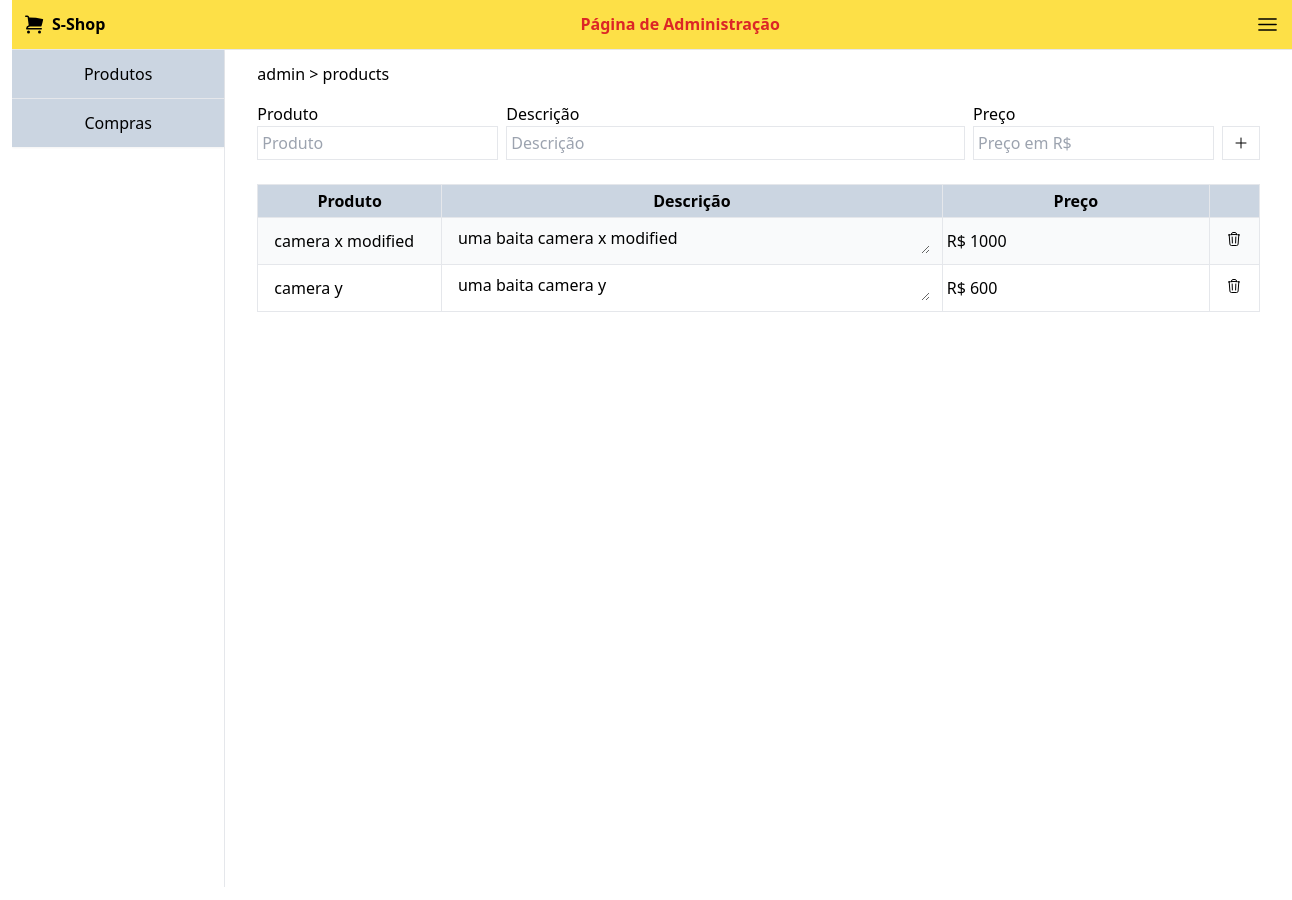
Scenario: add new shop item
Type "produto teste" into the field with placeholder "Produto" at (378, 143), box top-left (257, 126), bottom-right (498, 160)
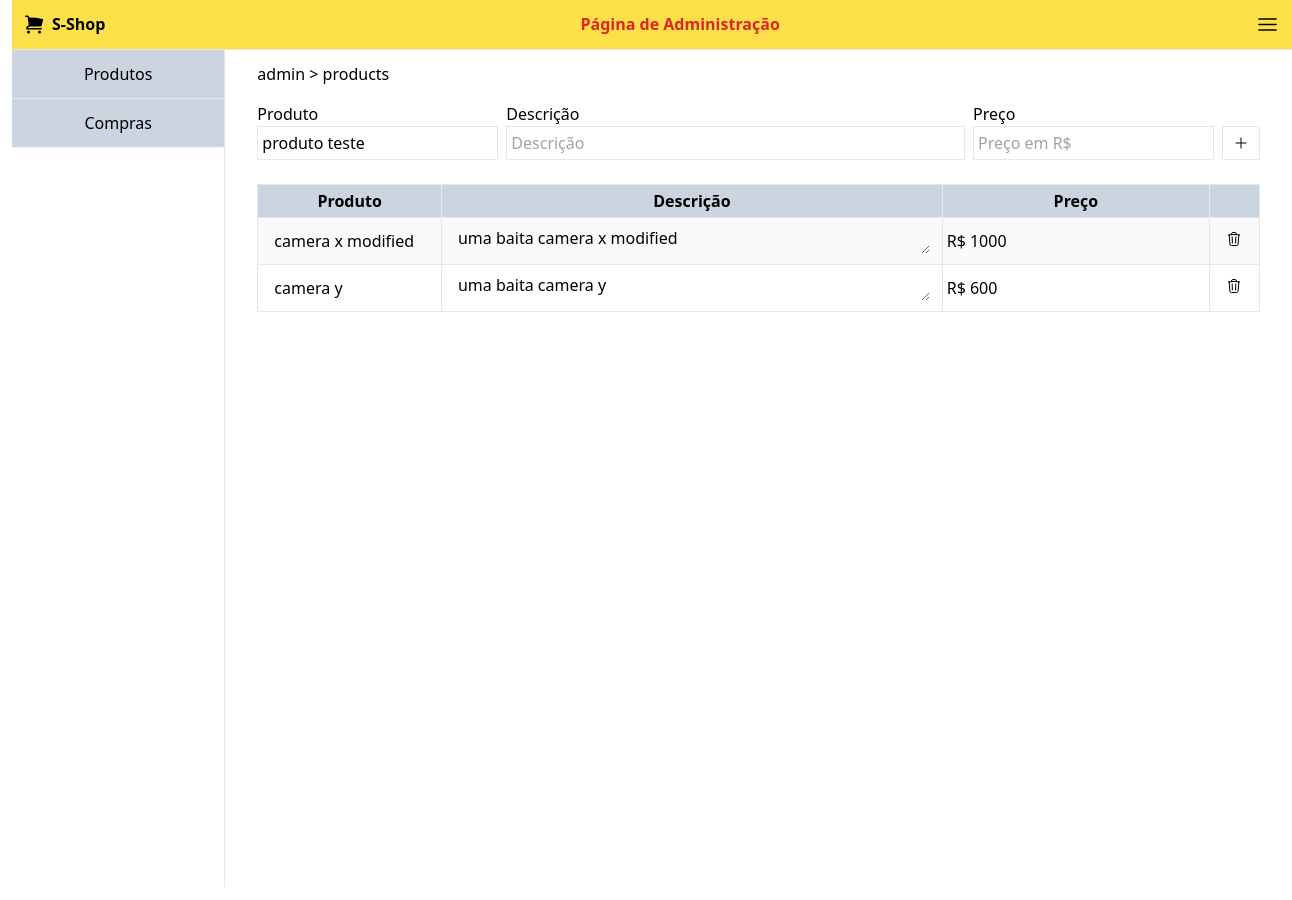
Type "descrição teste" into the field with placeholder "Descrição" at (736, 143), box top-left (506, 126), bottom-right (965, 160)
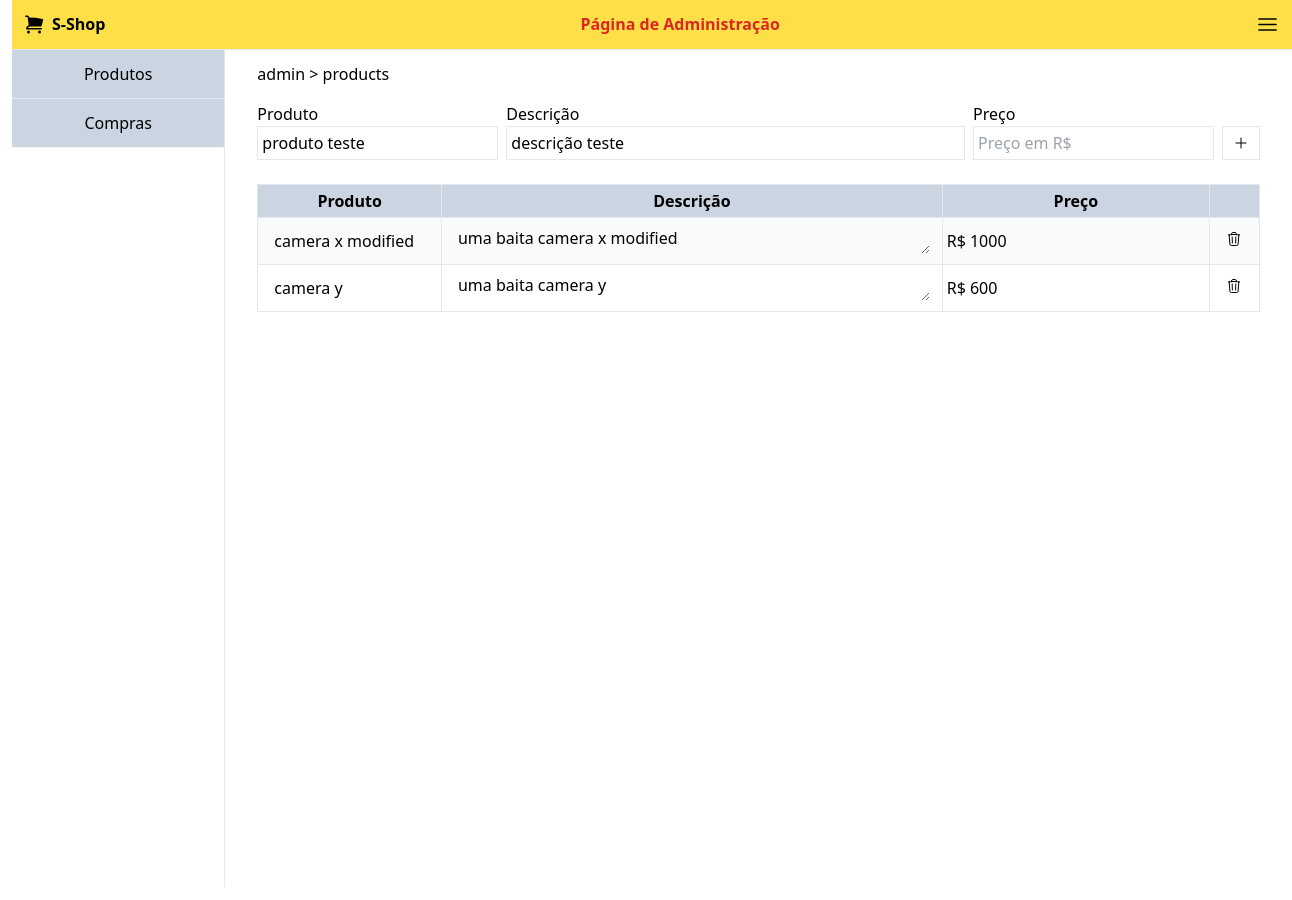
Type "1111" into the number field with placeholder "Preço em R$" at (1094, 143), box top-left (973, 126), bottom-right (1214, 160)
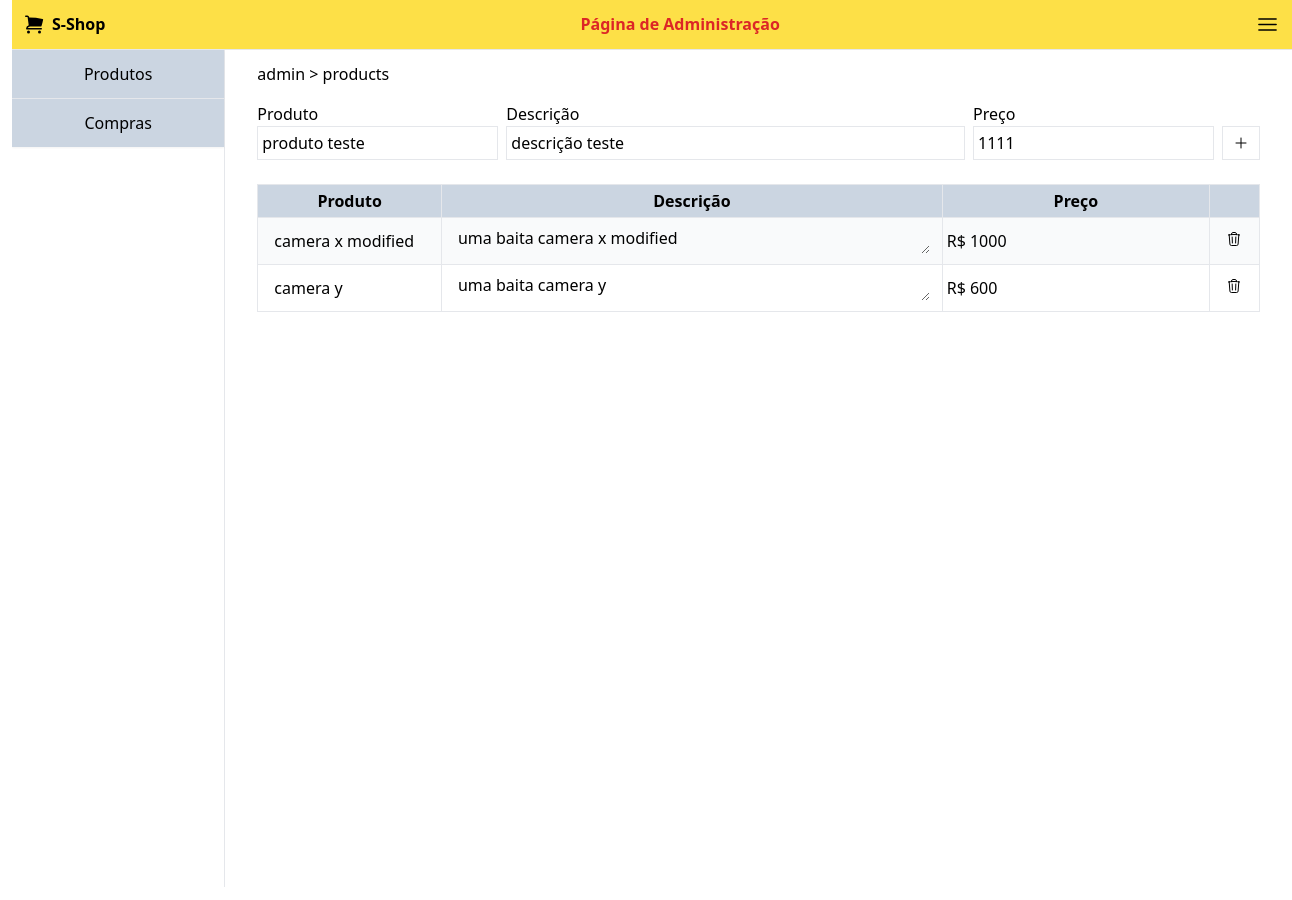
Click the 1st button with alt text "Add product" at (1241, 143), box top-left (1231, 135), bottom-right (1251, 151)
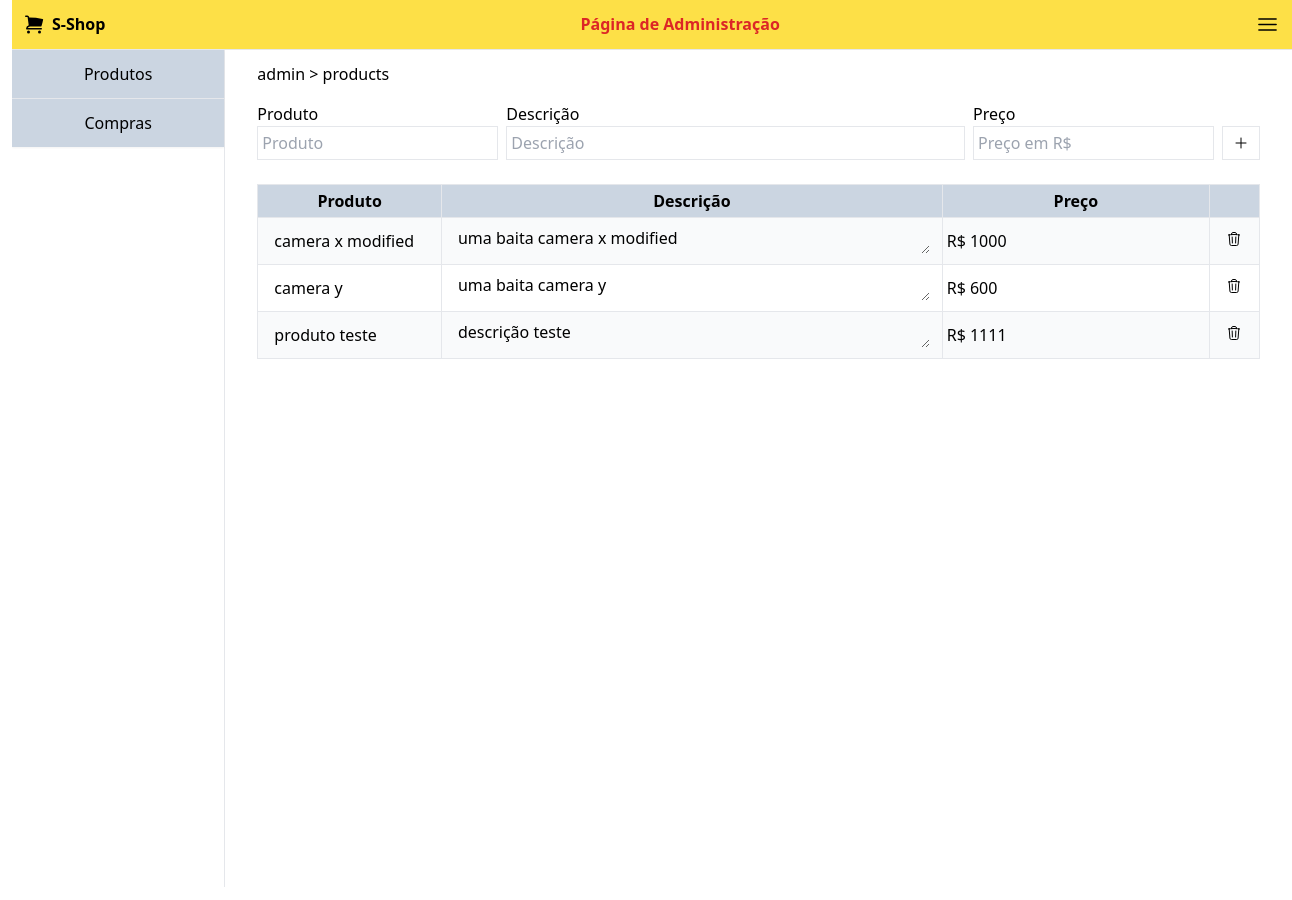
Now the 3rd field showing "produto teste" is shown, box top-left (270, 319), bottom-right (429, 351)
